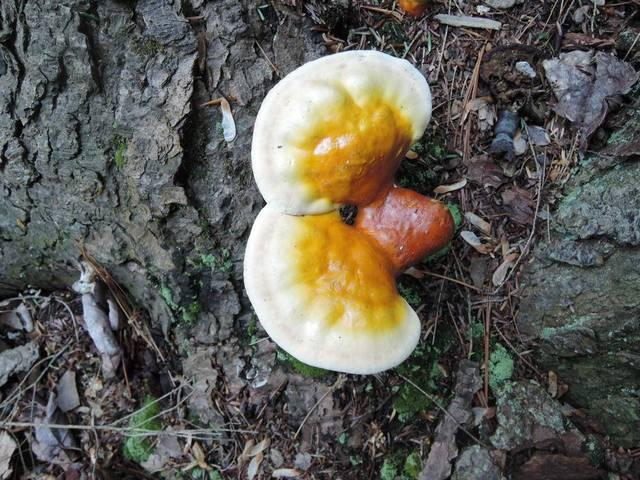poisonous_mushroom: (241, 48, 456, 375)
